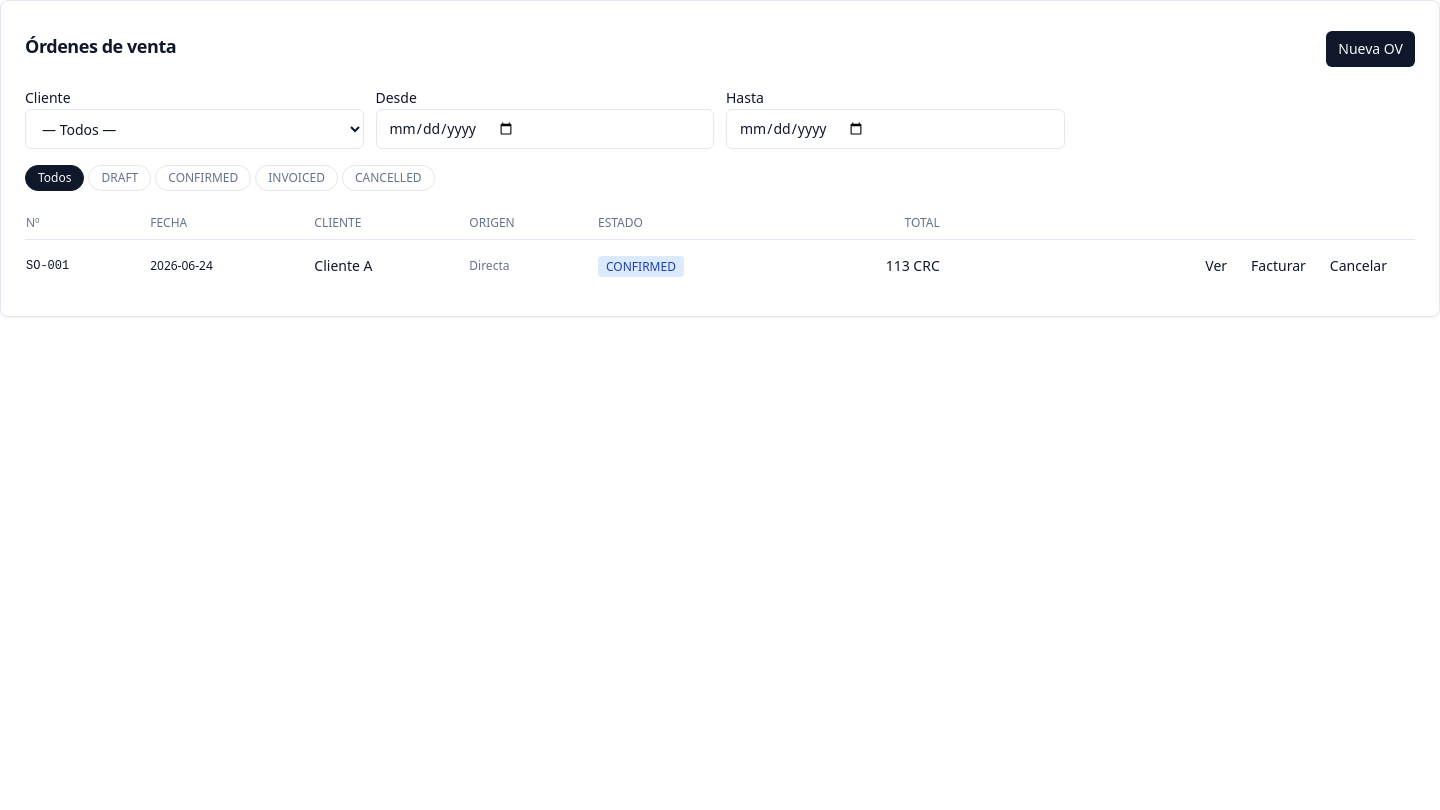
Test case: SalesOrdersPage — selector de nivel de precio por línea (PR-38) › al elegir producto: default Precio 1, precio autocompleta a 142.86 y margen ef. ≈ 30 %
Click the button "Nueva OV" at x=1371, y=49, box [1326,31,1415,67]
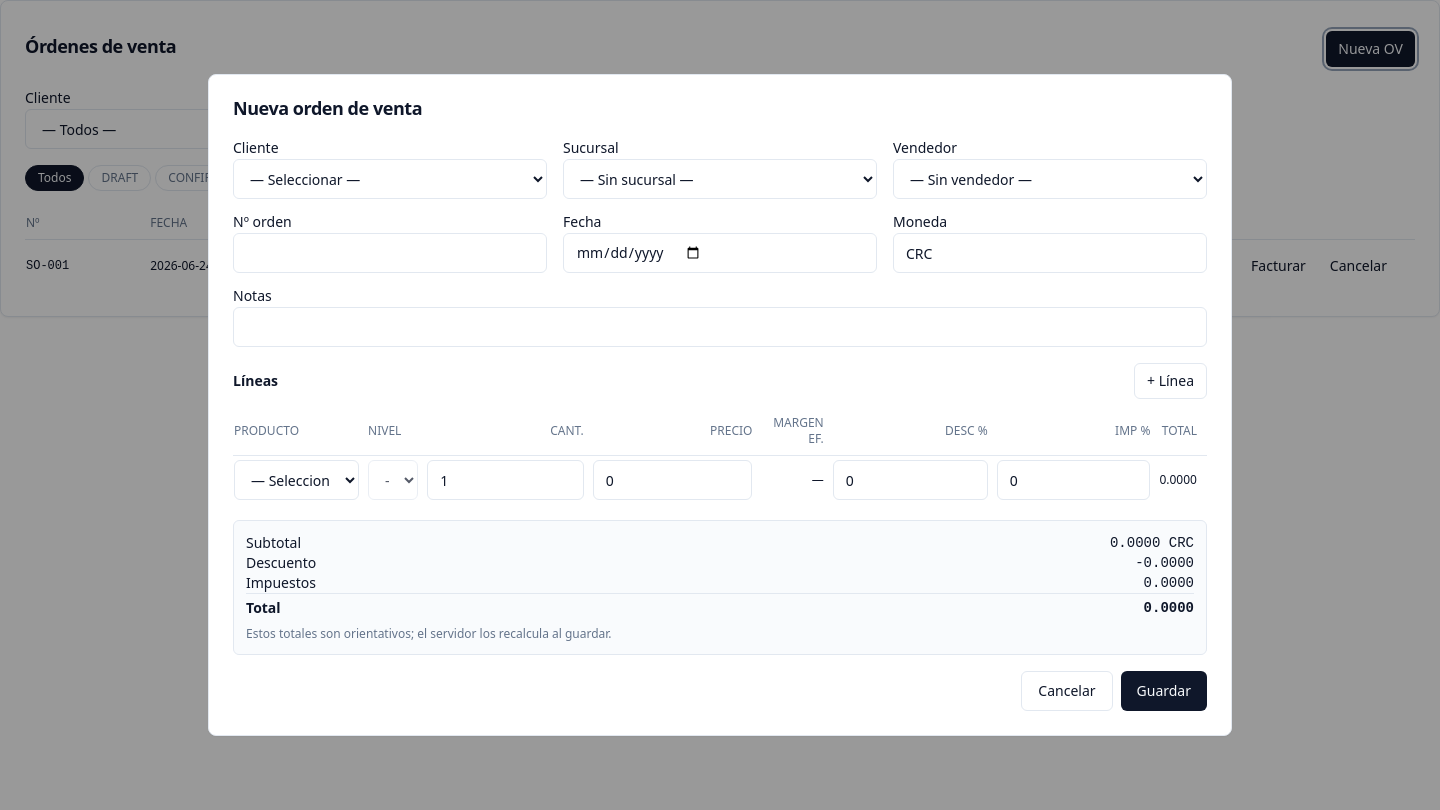
Expected: the dropdown named "producto línea 1" is shown, [234,460,359,500]
Select "Cliente A" in the dropdown with id "so-cust" at x=390, y=179, box [233,159,547,199]
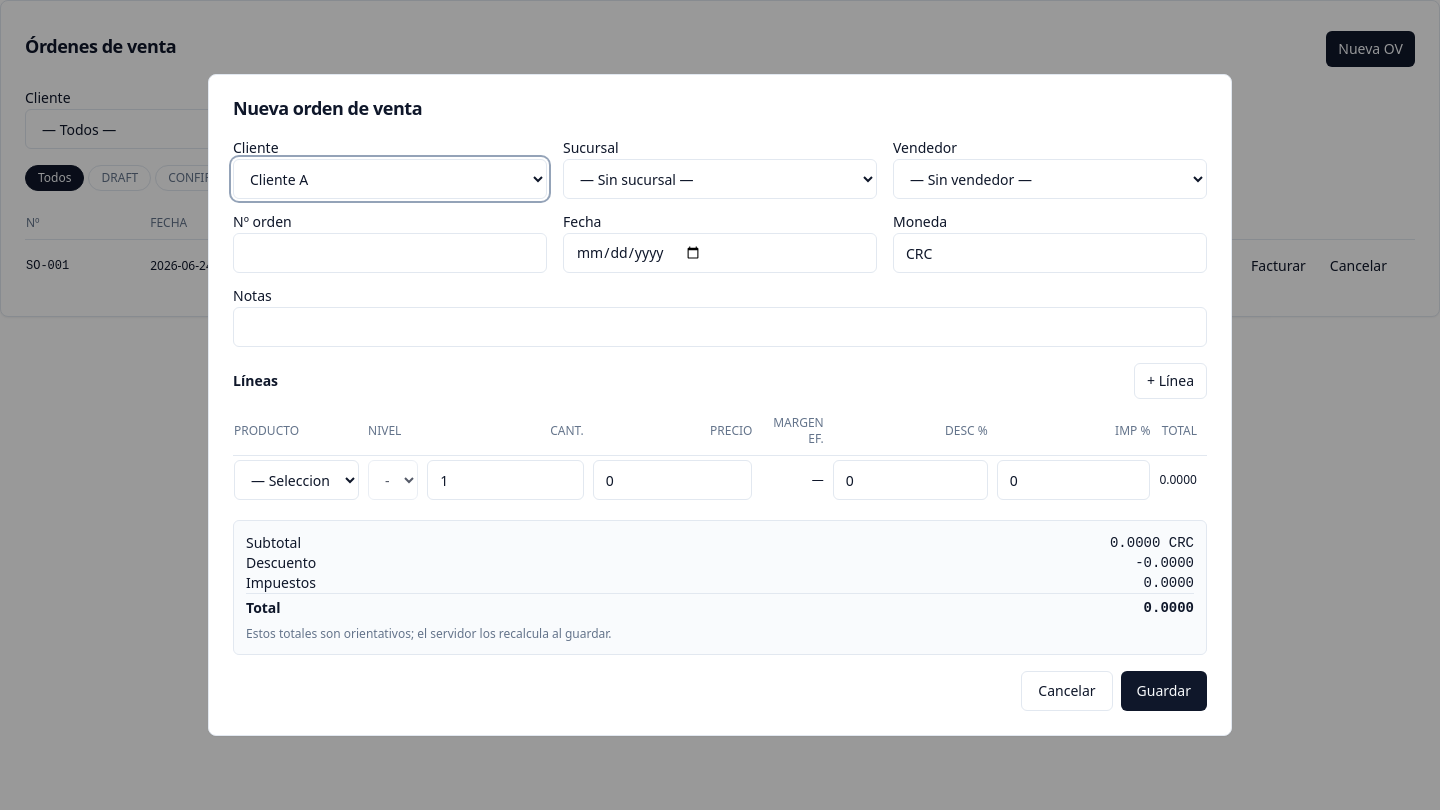
Select "P-1 — Producto 1" in the dropdown named "producto línea 1" at x=297, y=480, box [234,460,359,500]
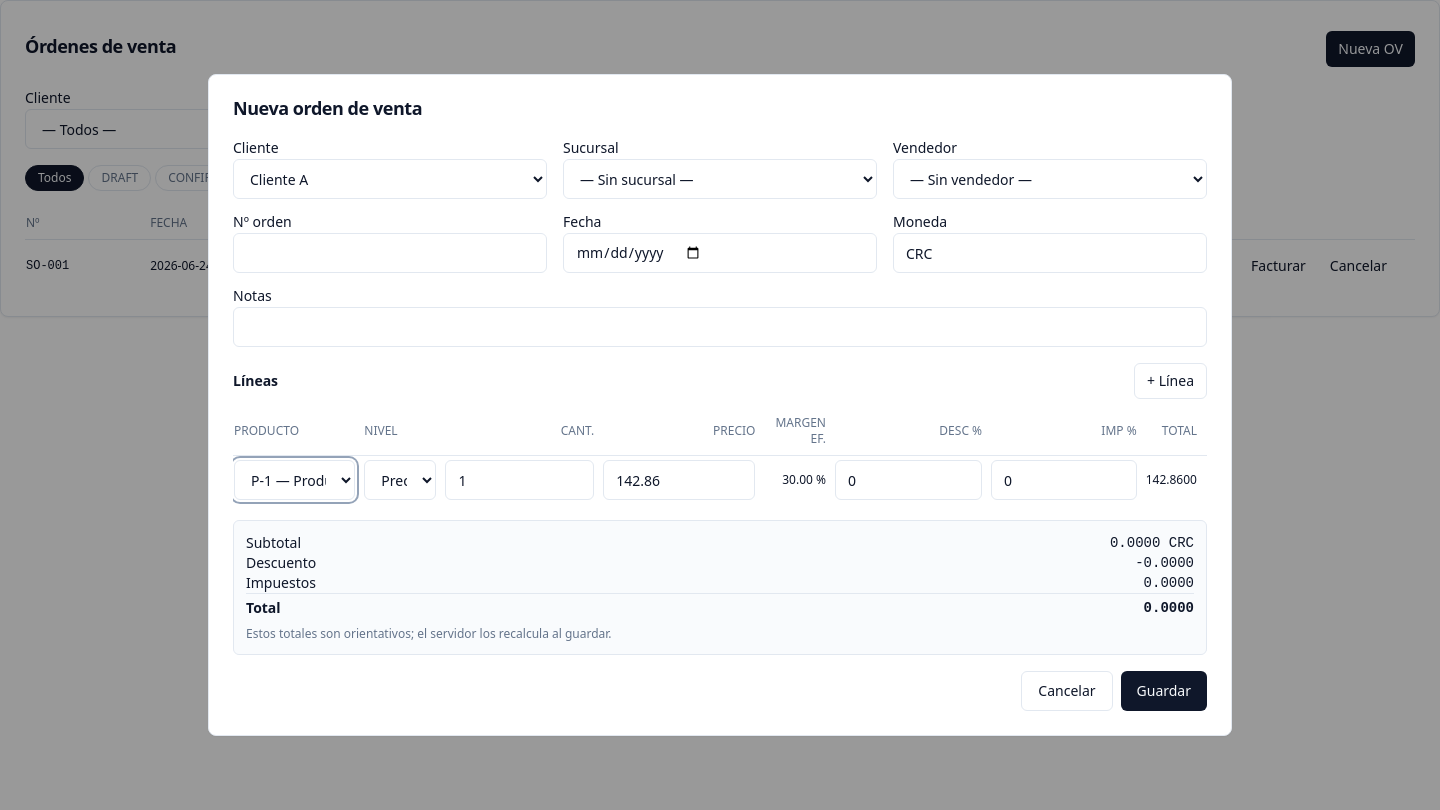
Expected: the dropdown with test id "so-line-level-0" shows "Precio 1", [364,460,436,500]
Expected: the field named "precio línea 1" holds "142.86", [603,460,756,500]
Expected: the cell with test id "so-line-margin-0" reads "30.00 %", [782,471,826,488]
